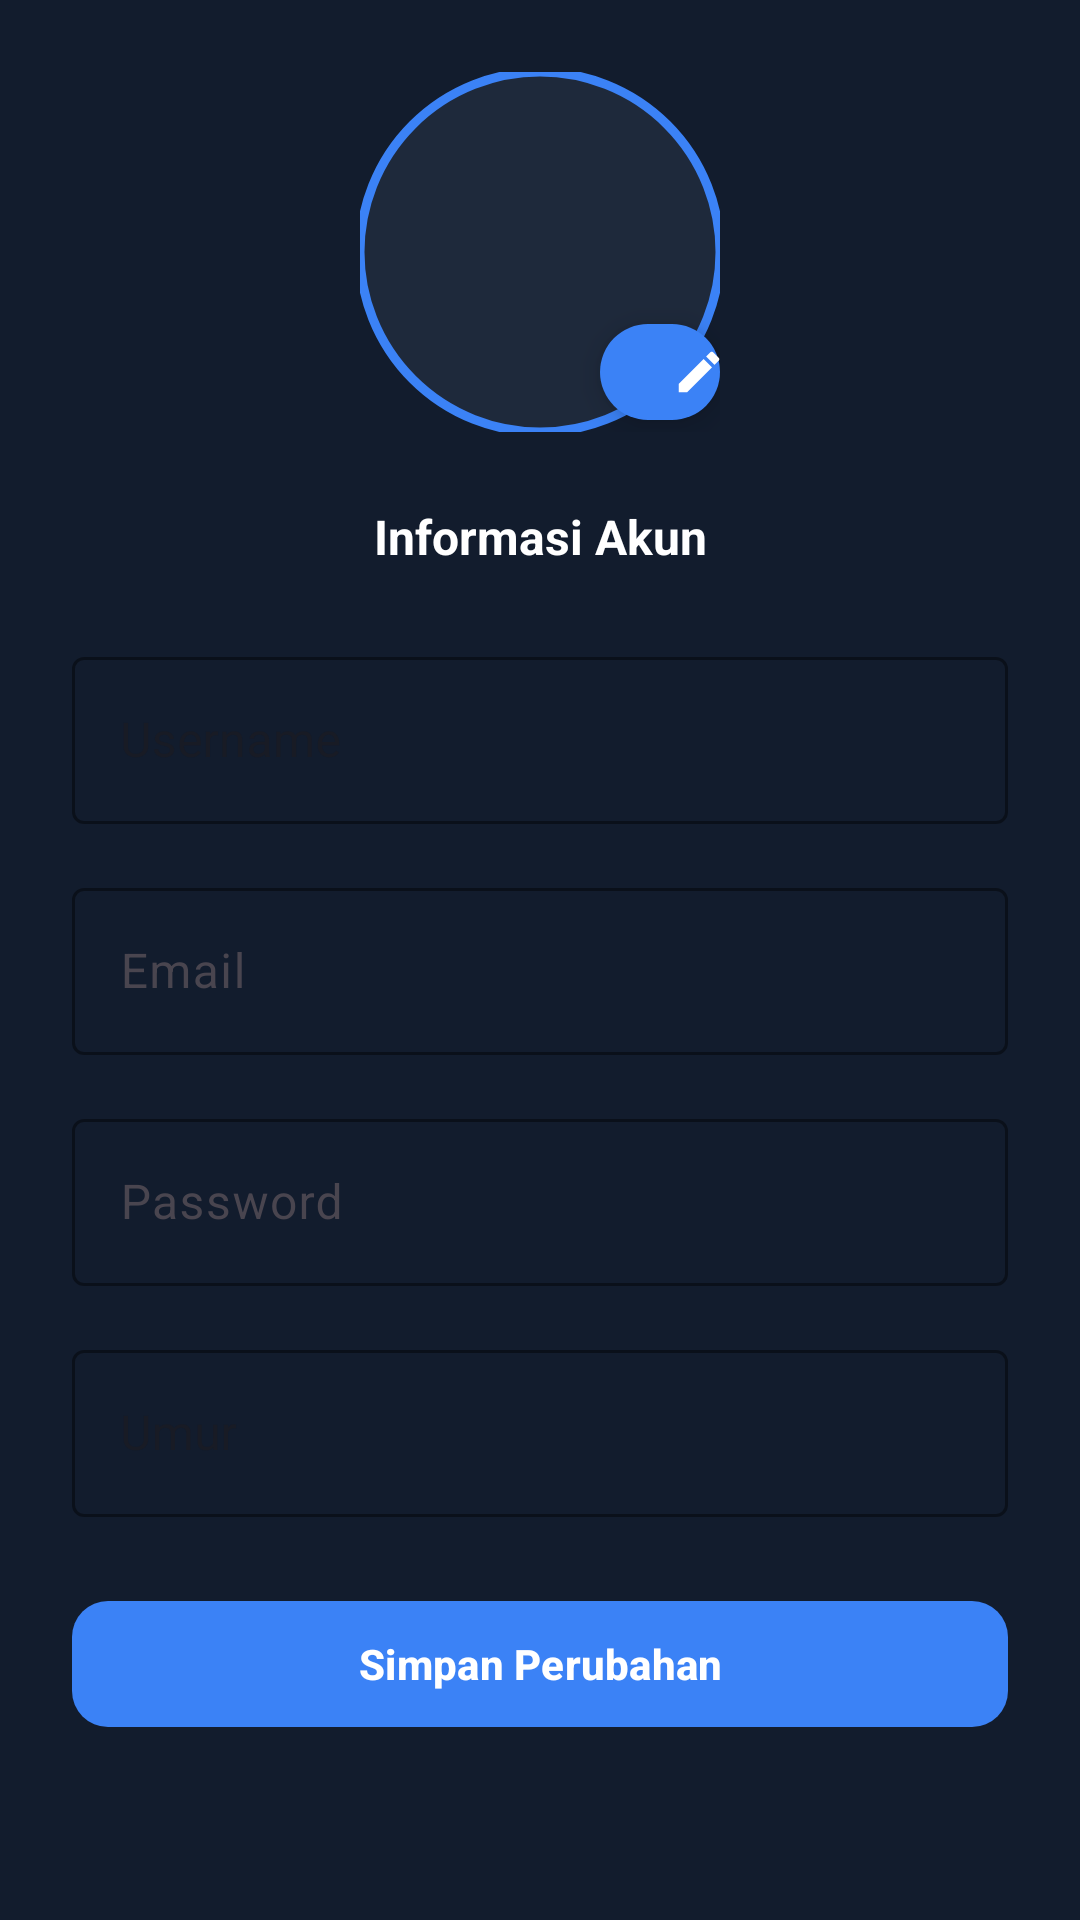

Icon bounding boxes for this 1080 × 1920 phone screenshot, format (x1, y1, x2, y2):
edit: (600, 312, 720, 426)
